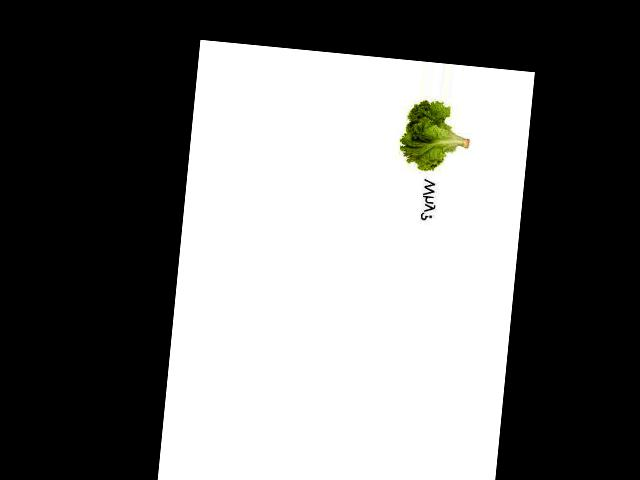lettuce: (387, 94, 478, 215)
